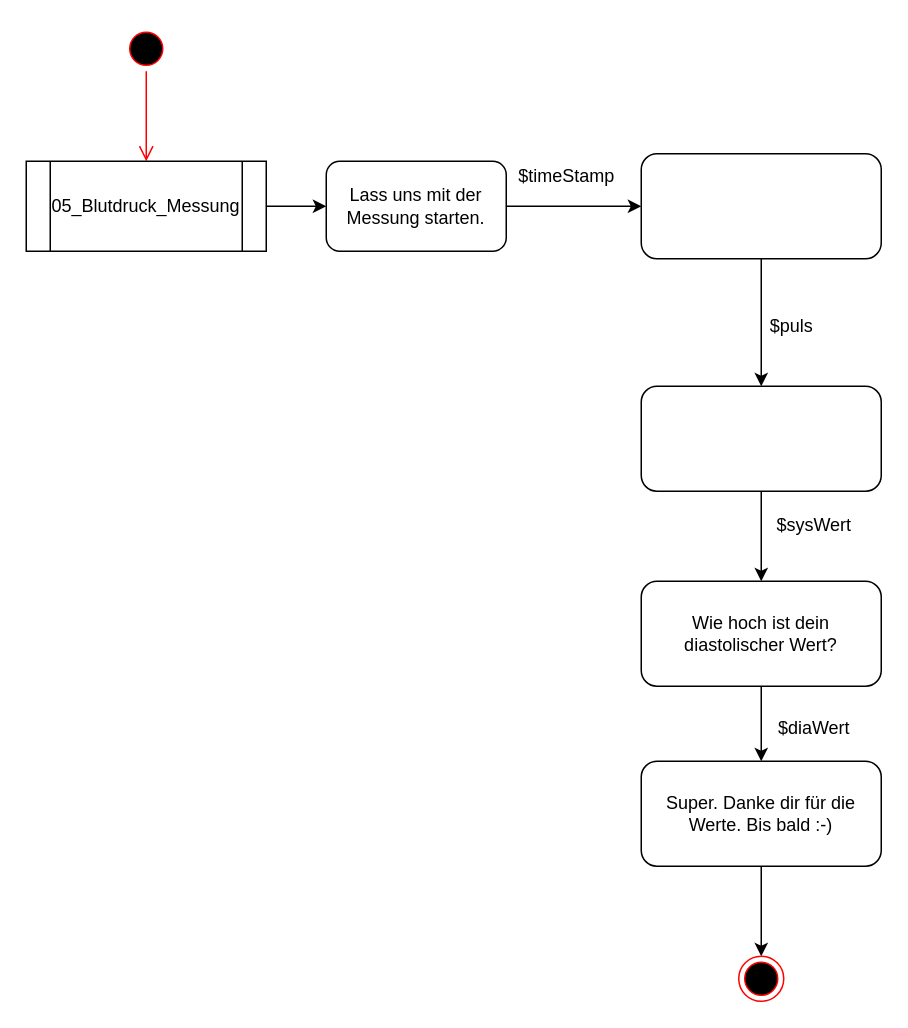
Some shapes in this 908 by 1028 pixel diagram are drawn without their labels. Here are the shapes that lost their labels. From the top down, the centre of each, then its label:
At pixel 760 205: "Wie hoch ist dein Puls ?".
At pixel 760 438: "Wie hoch ist dein systolischer Wert?".
